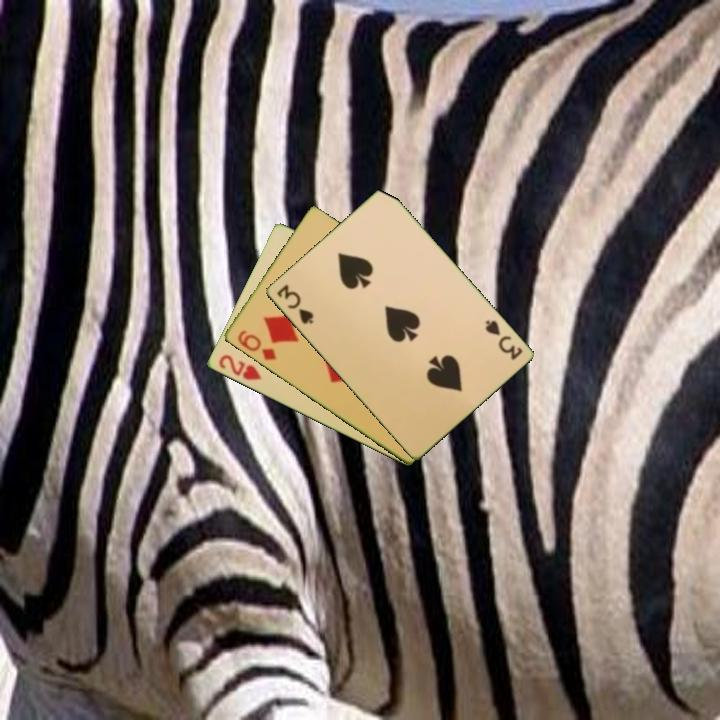2h: (215, 351, 264, 383)
3s: (481, 316, 525, 363), (273, 281, 316, 327)
6d: (234, 326, 279, 363)
